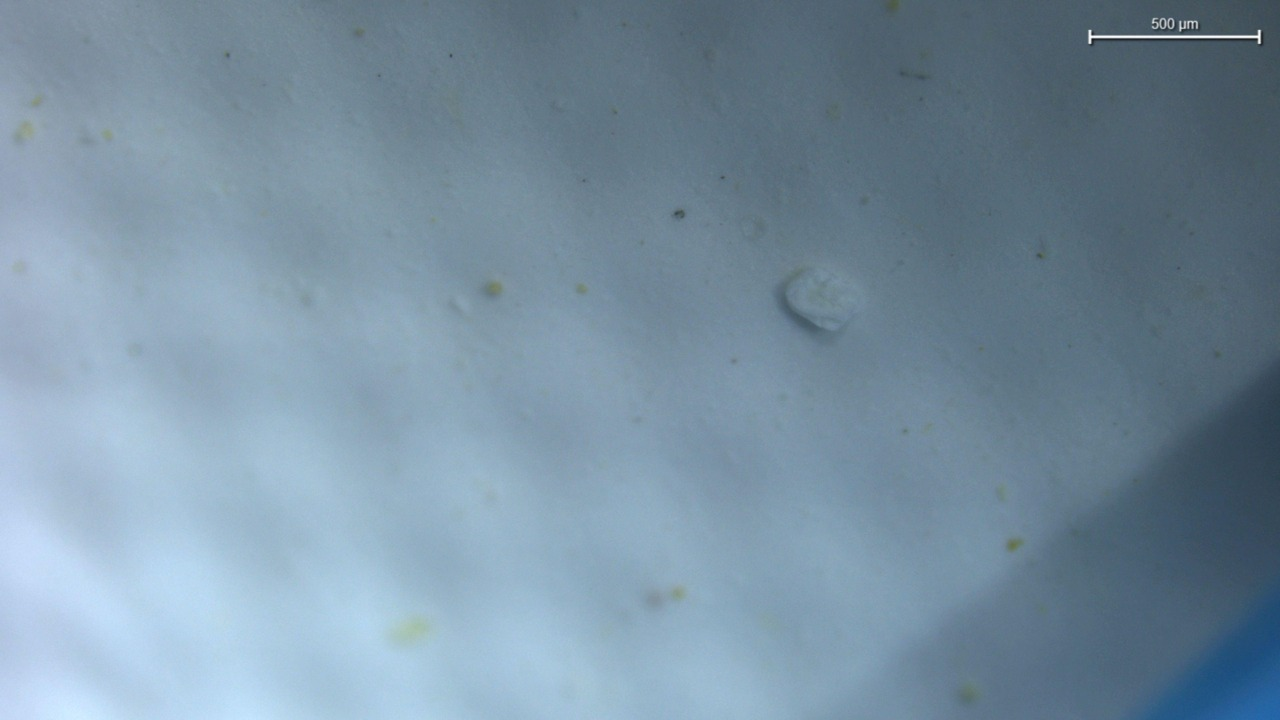microplastic_fragment: (784, 268, 864, 331)
